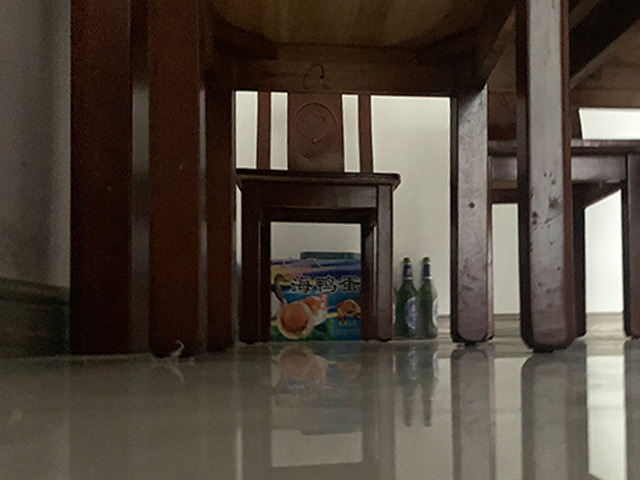stool: (235, 90, 401, 343)
